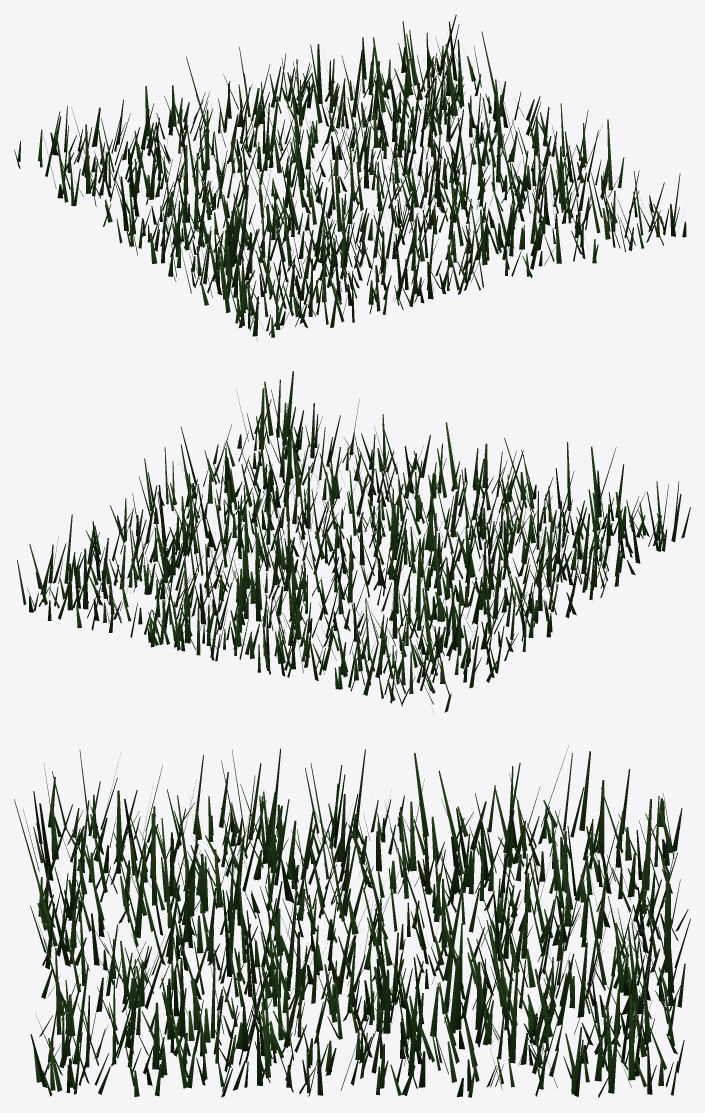
The model's file is Turf_Shade_v1.glb.
3 views of the same model, one above another, from view 1: azimuth 30°, elevation 25°; view 2: azimuth 150°, elevation 25°; view 3: azimuth 270°, elevation 25° (orthographic). The views are drawn at different scales.
Parts seen in each view (by area): view 1: Turf_Shade_v1; view 2: Turf_Shade_v1; view 3: Turf_Shade_v1.
Boxes of the visible parts, bbox=[...] form: Turf_Shade_v1: bbox=[14, 15, 686, 341]; Turf_Shade_v1: bbox=[17, 371, 690, 714]; Turf_Shade_v1: bbox=[14, 745, 690, 1097].
Size of the model in its own units: 1.26 by 0.18 by 1.29.
